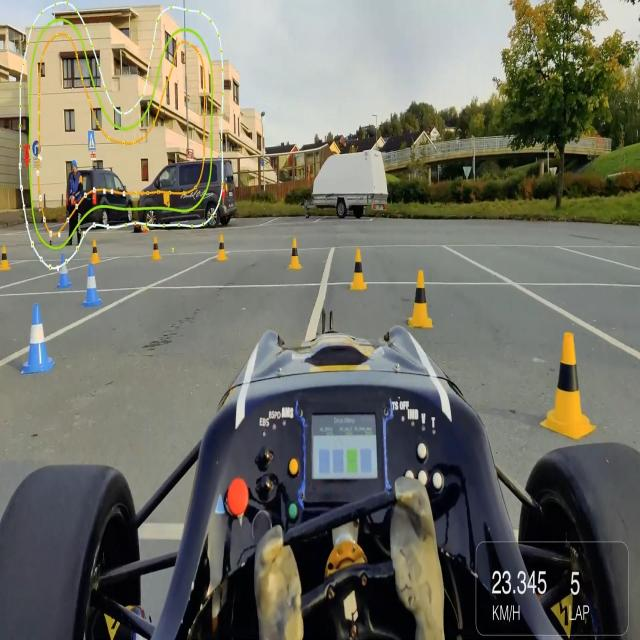blue_cone: (19, 299, 55, 377), (81, 263, 103, 311), (56, 252, 72, 292)
yellow_cone: (538, 326, 597, 441), (406, 268, 436, 330), (346, 246, 369, 293), (286, 235, 304, 273), (89, 236, 103, 264), (215, 232, 228, 262), (0, 242, 11, 274), (150, 234, 162, 262)
